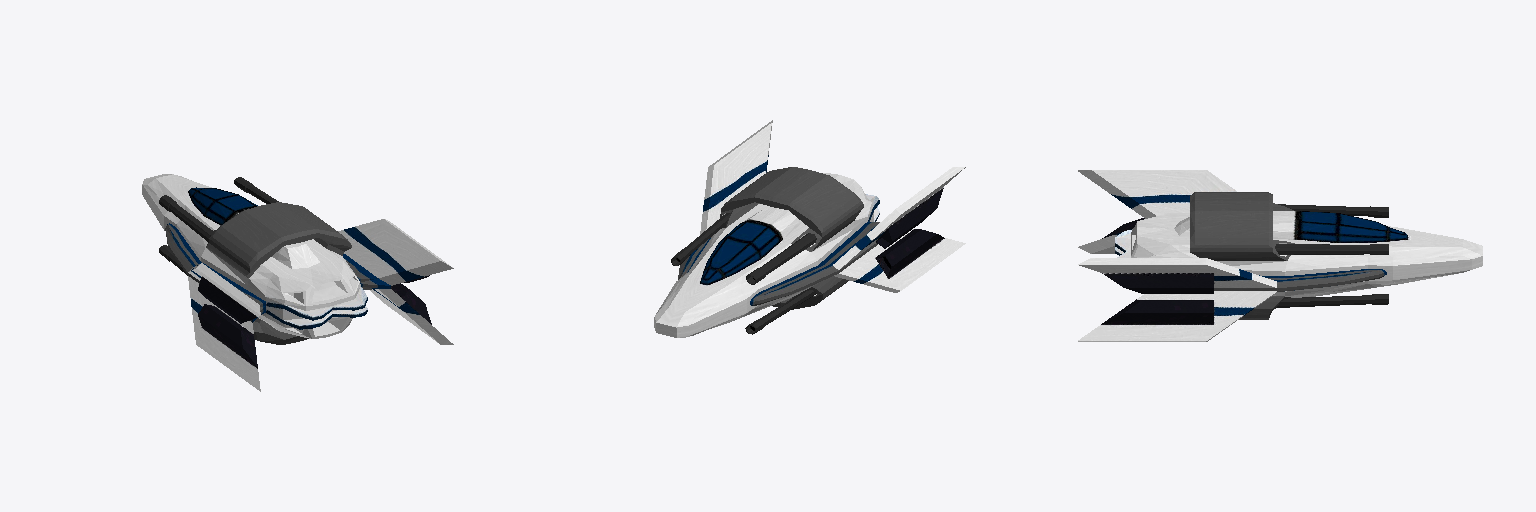
3 renders of one model, left to right at view 1: azimuth 30°, elevation 25°; view 2: azimuth 150°, elevation 25°; view 3: azimuth 270°, elevation 25°, orthographic.
Parts seen in each view (by area): view 1: Cube; view 2: Cube; view 3: Cube.
Boxes of the visible parts, x1=… form: Cube: x1=142, y1=174, x2=453, y2=391; Cube: x1=654, y1=120, x2=965, y2=337; Cube: x1=1078, y1=170, x2=1482, y2=341.
Size of the model in its own units: 3.38 by 1.83 by 6.14.
Materials: 1 (1 with a texture image).